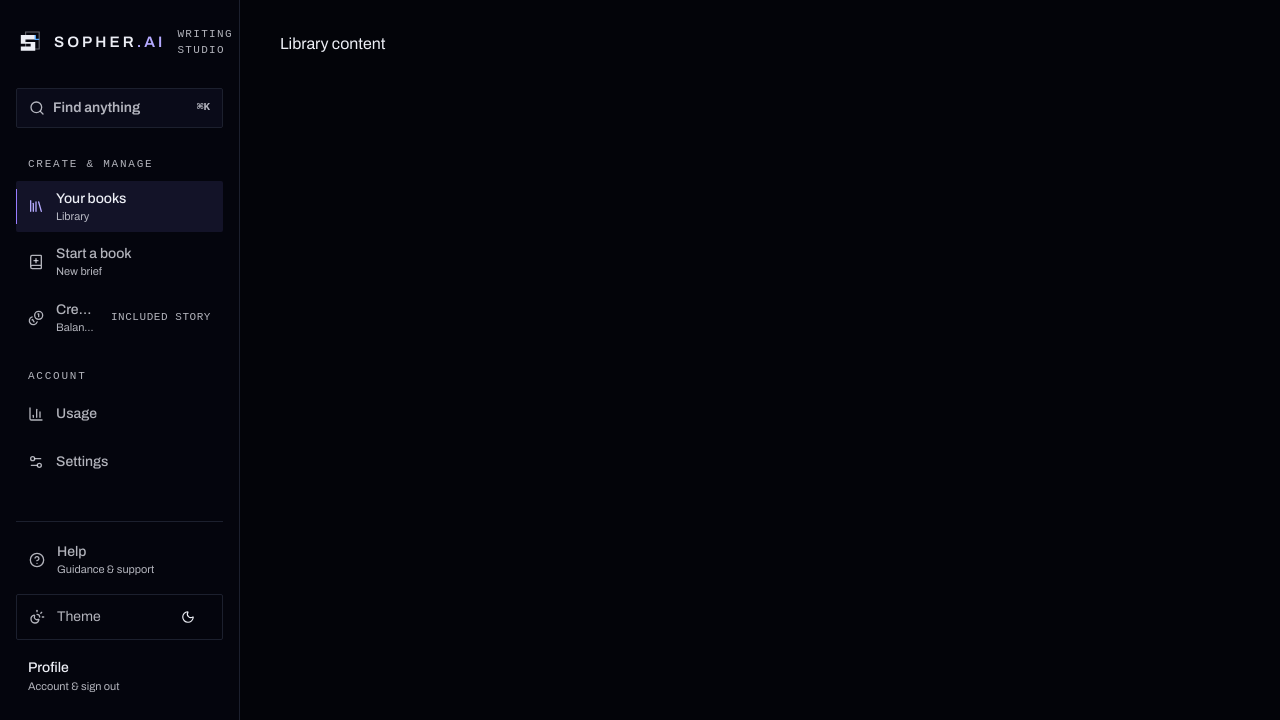
Test: ProductShell credit label › keeps accessible Help available from the Studio shell
Click the button "Help Guidance & support" at (120,560), box [16,538,223,582]
(page scrolled)
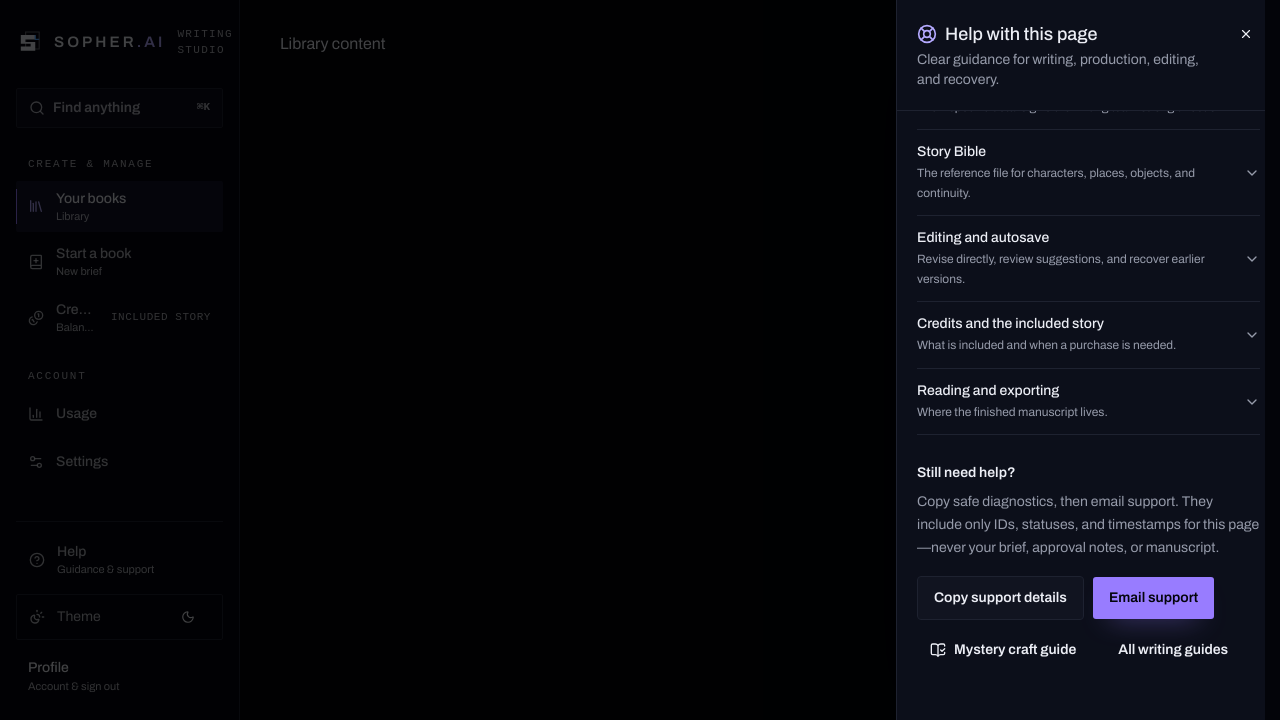
Expected: the heading "Help with this page" is shown, [917,24,1098,44]
